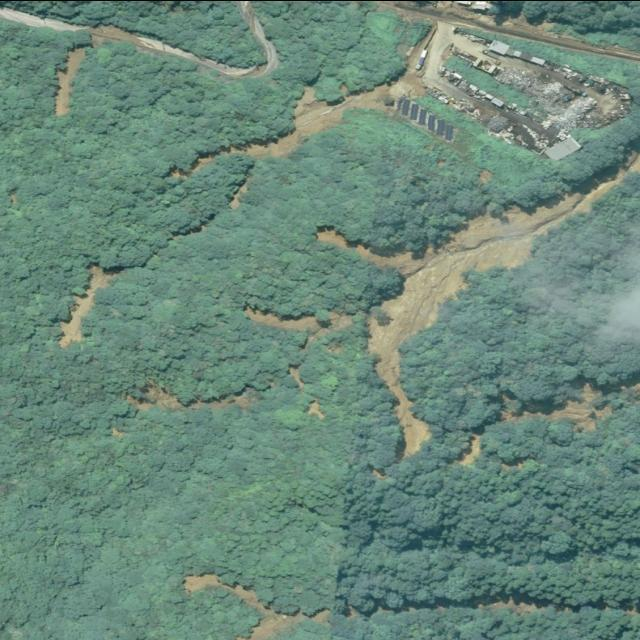landslide: (355, 149, 640, 458), (170, 67, 426, 176), (183, 573, 330, 640), (500, 382, 613, 430), (59, 264, 116, 347)
